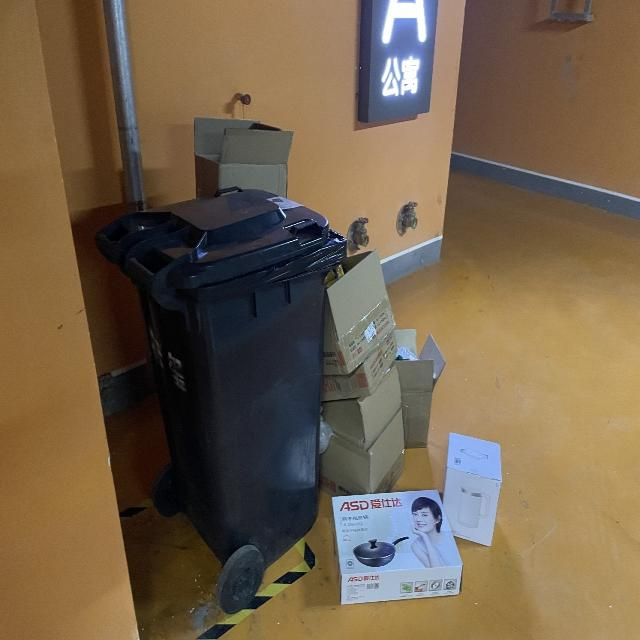garbage: (317, 246, 501, 604)
overflow: (90, 115, 344, 573)
